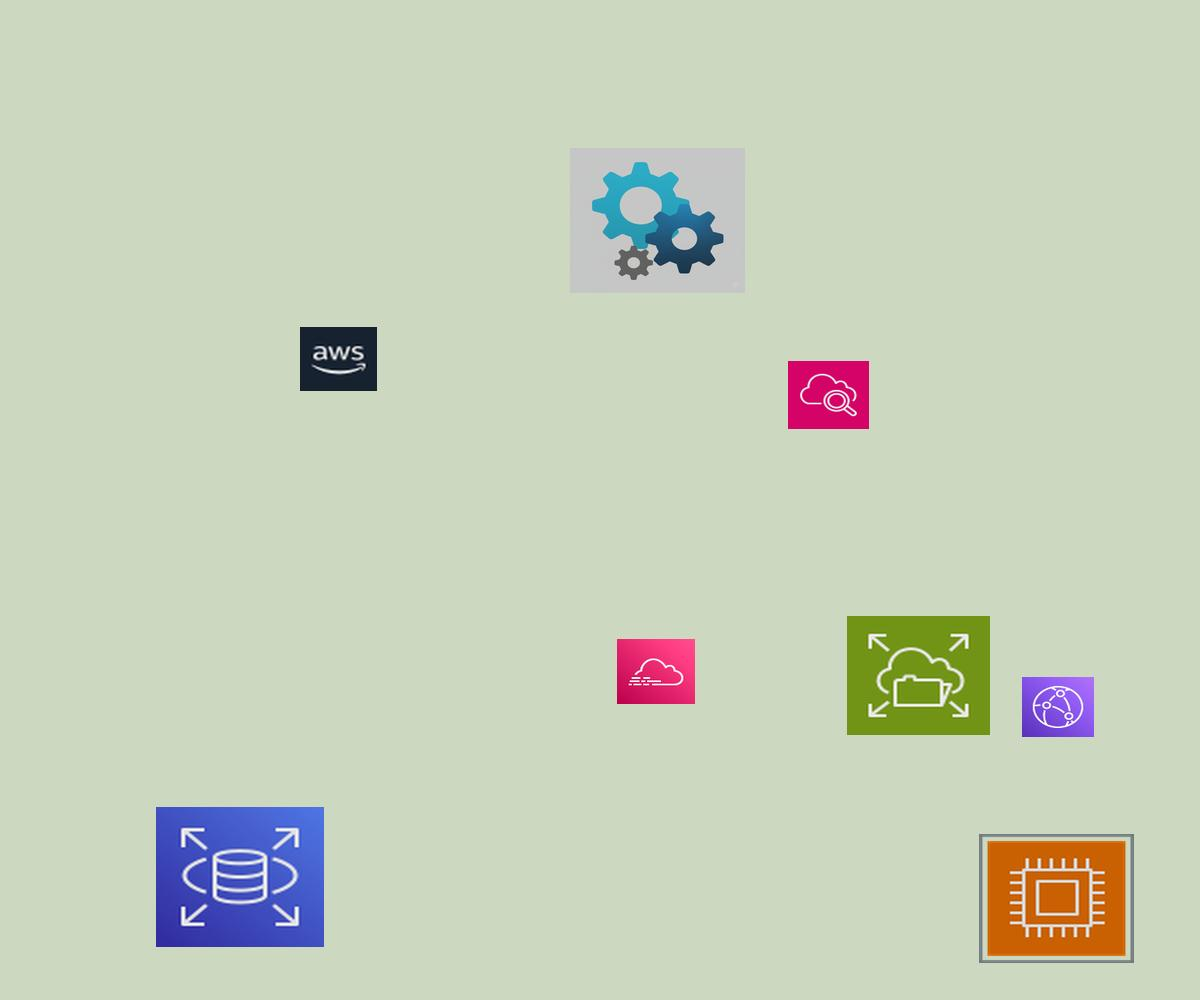AWS-Category_Compute: (979, 834, 1134, 963)
AWS-Cloud-logo: (300, 327, 377, 391)
AWS-CloudFront: (1022, 677, 1094, 737)
AWS-CloudTrail: (617, 639, 695, 704)
AWS-CloudWatch: (788, 361, 869, 429)
AWS-EFS: (847, 616, 990, 735)
AWS-RDS: (156, 807, 324, 947)
Azure_api: (570, 148, 745, 293)
